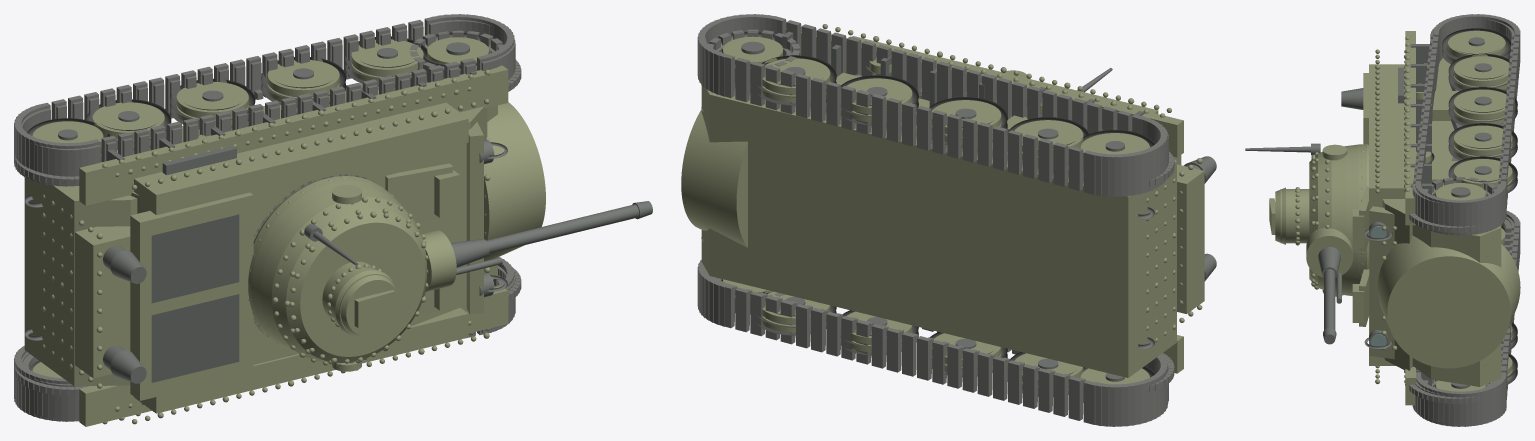
Rendered from M3_Stuart_Early_HighPoly.glb.
The picture shows the model from 3 angles, left to right: view 1: azimuth 30°, elevation 25°; view 2: azimuth 150°, elevation 25°; view 3: azimuth 270°, elevation 25°; orthographic projection. The views are drawn at different scales.
Parts seen in each view (by area): view 1: Olive Drab, Track Steel, Grille Steel, Dark Steel, Rubber; view 2: Olive Drab, Track Steel, Dark Steel, Rubber; view 3: Olive Drab, Track Steel, Dark Steel, Rubber, Optics Glass.
Boxes of the visible parts, x1,y1,x2,y2 form: Olive Drab: [24, 37, 545, 426]; Track Steel: [14, 14, 521, 421]; Grille Steel: [151, 214, 239, 382]; Dark Steel: [25, 42, 652, 383]; Rubber: [27, 36, 427, 371]; Olive Drab: [681, 24, 1204, 397]; Track Steel: [697, 14, 1174, 426]; Dark Steel: [701, 31, 1216, 381]; Rubber: [756, 55, 1154, 402]; Olive Drab: [1269, 30, 1520, 405]; Track Steel: [1409, 14, 1520, 426]; Dark Steel: [1245, 37, 1491, 388]; Rubber: [1416, 28, 1517, 384]; Optics Glass: [1370, 226, 1386, 349].
Bounding box in the file's own units: 4.76 × 2.32 × 2.58.
